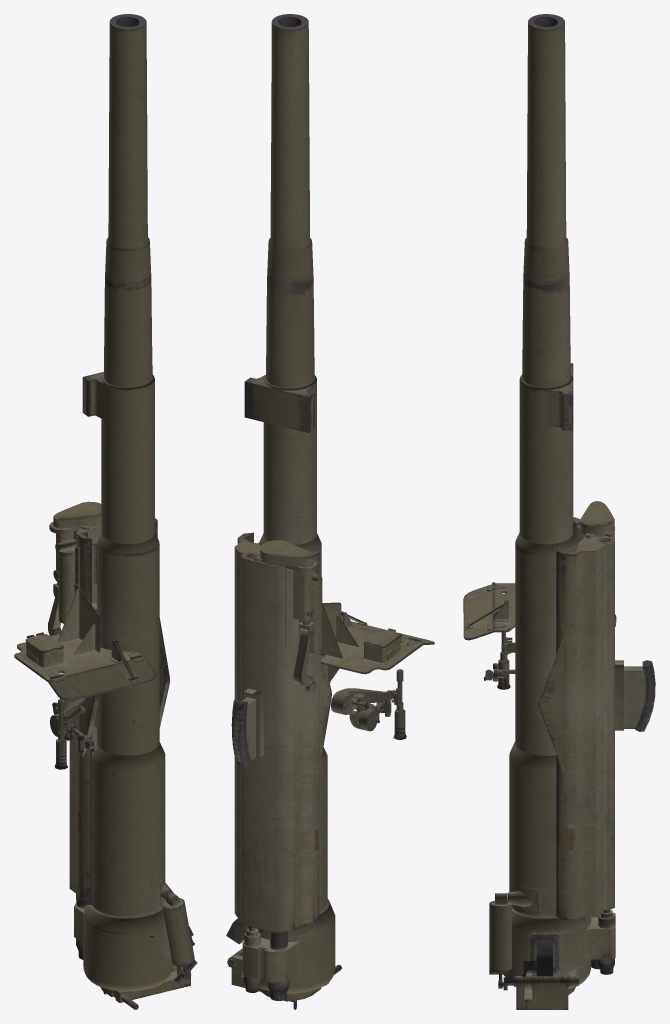
File: Gun_01.glb
3 renders of one model, left to right at view 1: azimuth 30°, elevation 25°; view 2: azimuth 150°, elevation 25°; view 3: azimuth 270°, elevation 25°, orthographic.
Visible parts, largest first — view 1: set_0_group_0; view 2: set_0_group_0; view 3: set_0_group_0.
Boxes of the visible parts, left/top/right/bottom form: set_0_group_0: left=14, top=14, right=197, bottom=1009; set_0_group_0: left=226, top=14, right=434, bottom=1009; set_0_group_0: left=463, top=14, right=655, bottom=1009.
Size of the model in its own units: 1.09 by 6.04 by 1.08.
Materials: 1 (1 with a texture image).
